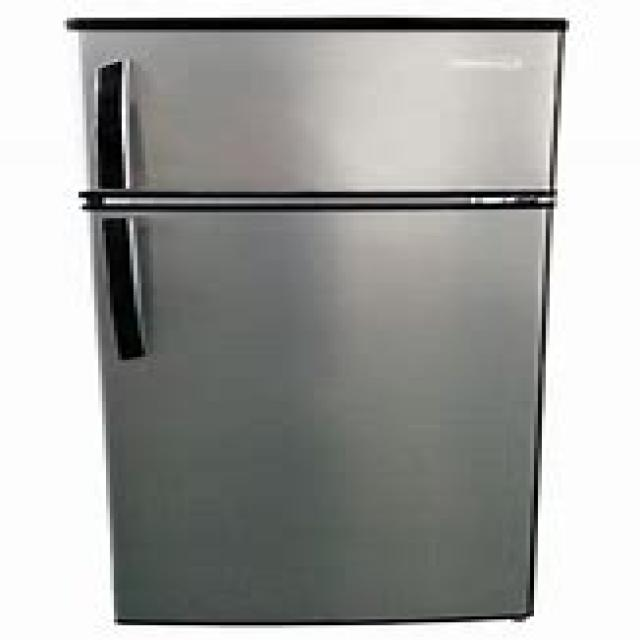fridge: (63, 15, 565, 625)
